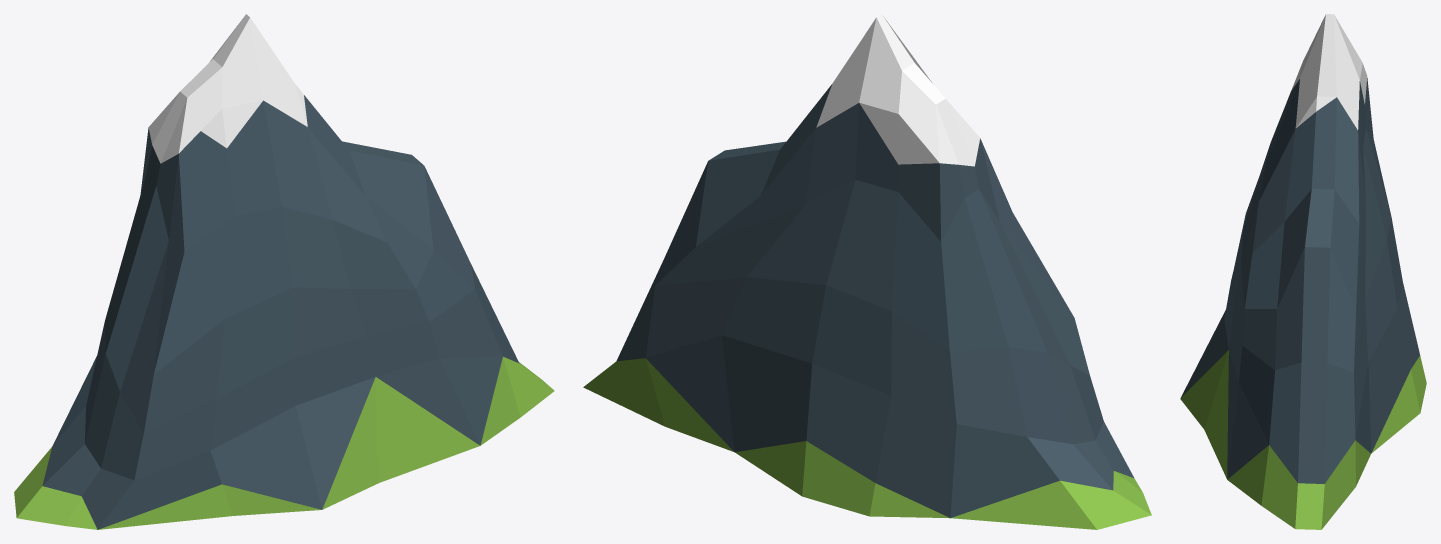
Rendered from mountain_8_lev1.glb.
3 renders of one model, left to right at view 1: azimuth 30°, elevation 25°; view 2: azimuth 150°, elevation 25°; view 3: azimuth 270°, elevation 25°, orthographic. The views are drawn at different scales.
Parts seen in each view (by area): view 1: mountain_8_lev1; view 2: mountain_8_lev1; view 3: mountain_8_lev1.
Part boxes in pixels (x1,y1,x2,y2): mountain_8_lev1: (14,14,554,529); mountain_8_lev1: (583,14,1151,529); mountain_8_lev1: (1180,14,1426,529).
Size of the model in its own units: 39.57 by 30.41 by 17.49.
